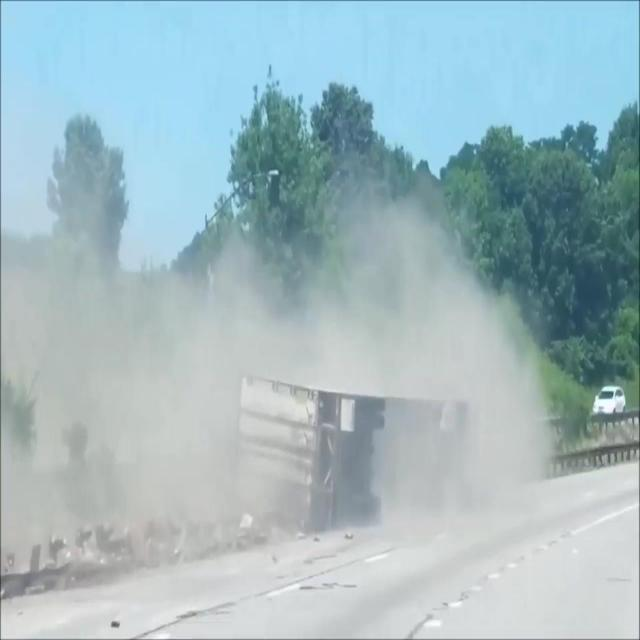accident: (209, 363, 479, 541)
